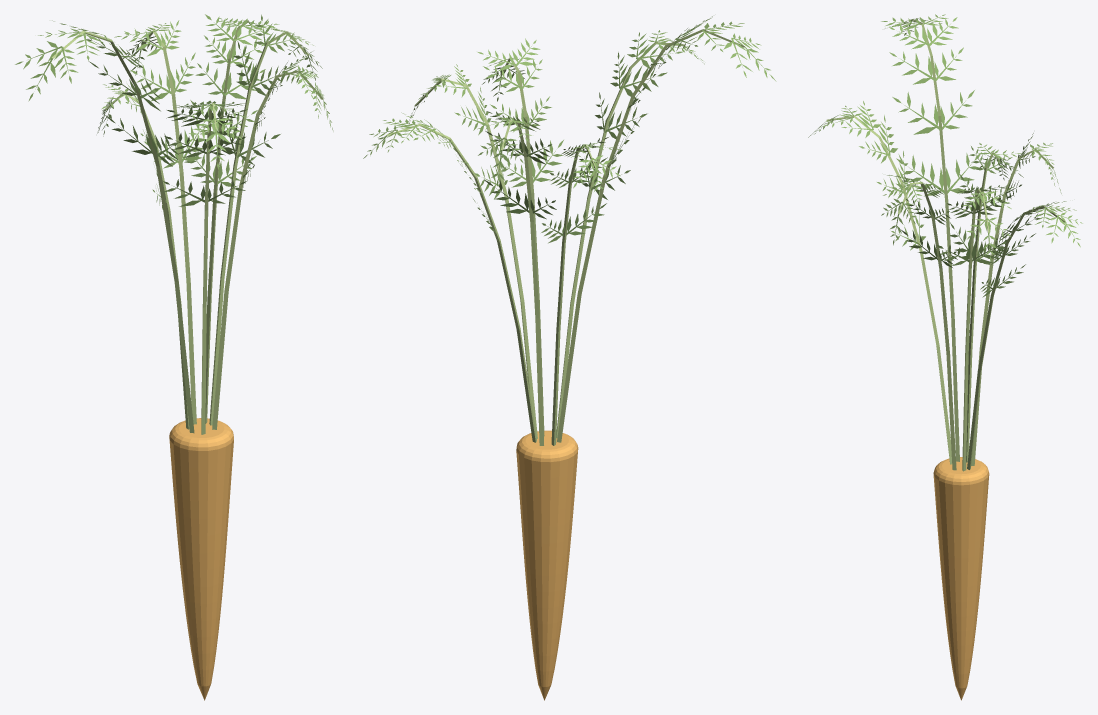
The model's file is carrot_harvest_v13.glb.
The picture shows the model from 3 angles, left to right: view 1: azimuth 30°, elevation 25°; view 2: azimuth 150°, elevation 25°; view 3: azimuth 270°, elevation 25°; orthographic projection. The views are drawn at different scales.
Visible parts, largest first — view 1: leaves, root, petioles; view 2: leaves, root, petioles; view 3: leaves, root, petioles.
Boxes of the visible parts, bbox=[...] form: leaves: bbox=[15, 14, 333, 209]; root: bbox=[169, 418, 233, 700]; petioles: bbox=[51, 20, 323, 434]; leaves: bbox=[363, 16, 776, 243]; root: bbox=[516, 430, 578, 700]; petioles: bbox=[387, 29, 744, 445]; leaves: bbox=[808, 14, 1082, 297]; root: bbox=[933, 457, 989, 700]; petioles: bbox=[826, 19, 1065, 471].
Size of the model in its own units: 0.2131 by 0.4316 by 0.1762.
